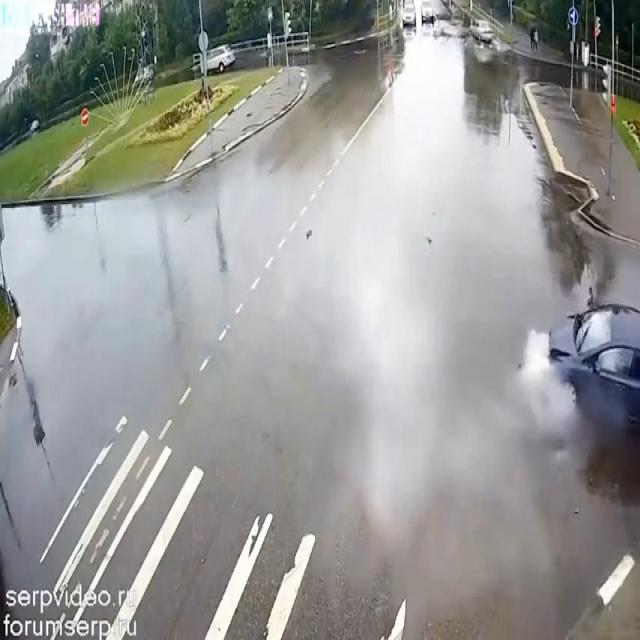Accident: (489, 272, 640, 499)
